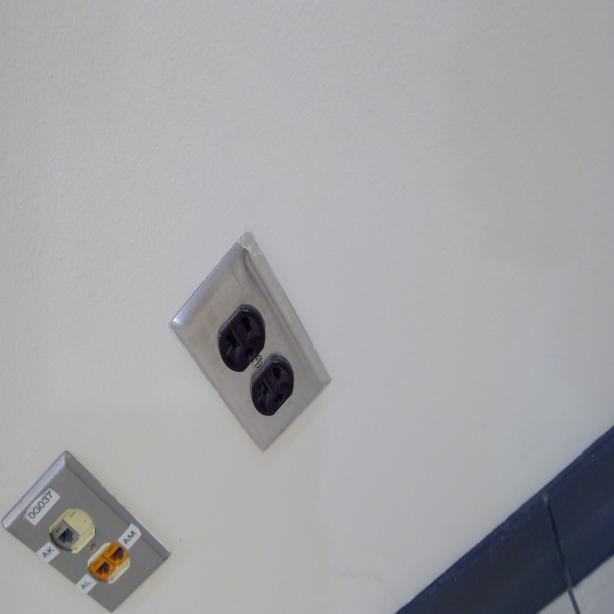typeb: (223, 302, 260, 364), (252, 364, 295, 412)
